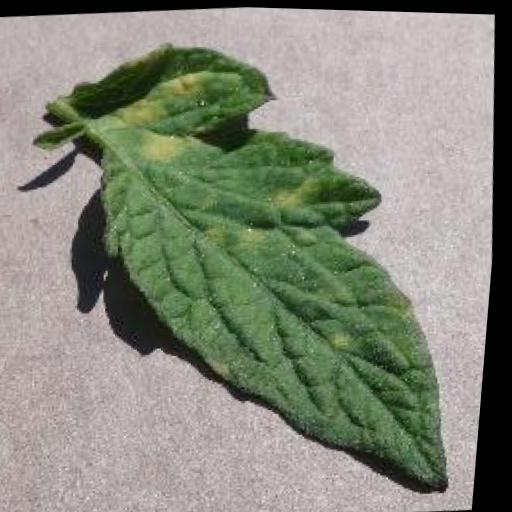Leaf Mold: (45, 18, 485, 512)
